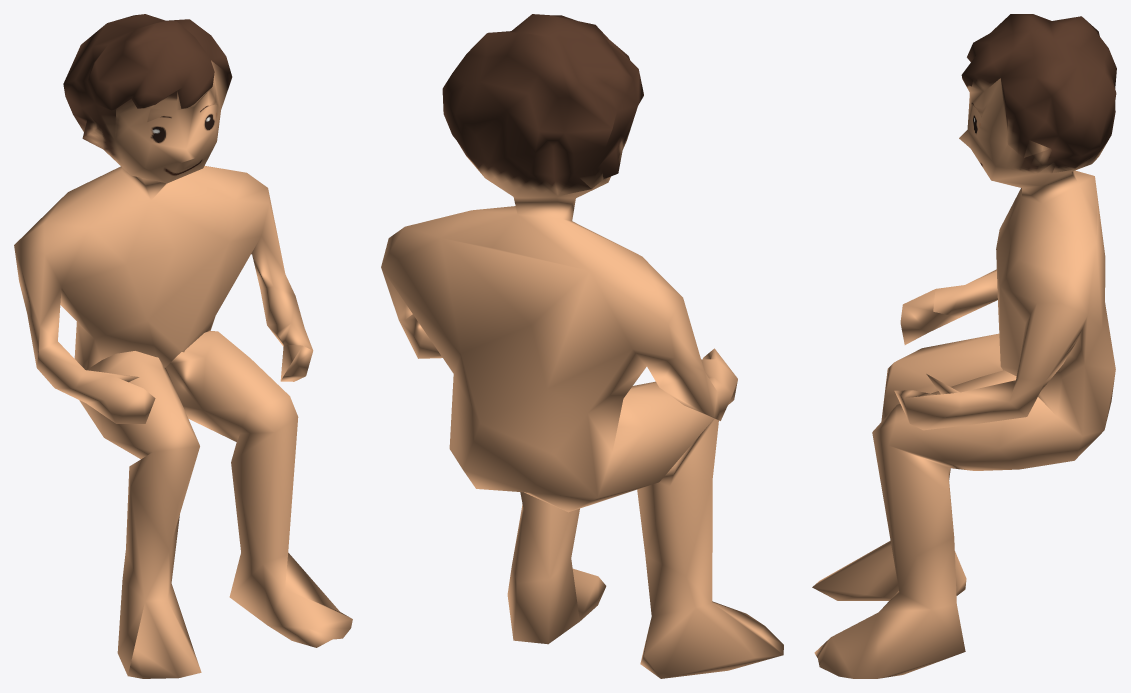
Rendered from npc_seated_lod_far.glb.
The picture shows the model from 3 angles, left to right: view 1: azimuth 30°, elevation 25°; view 2: azimuth 150°, elevation 25°; view 3: azimuth 270°, elevation 25°; orthographic projection. The views are drawn at different scales.
Visible parts, largest first — view 1: npc_seated_lod_far; view 2: npc_seated_lod_far; view 3: npc_seated_lod_far.
Part boxes in pixels (x1,y1,x2,y2): npc_seated_lod_far: [14, 14, 352, 678]; npc_seated_lod_far: [381, 14, 783, 678]; npc_seated_lod_far: [812, 14, 1116, 678].
Size of the model in its own units: 0.662 by 1.42 by 0.6409.
Materials: 1 (1 with a texture image).
